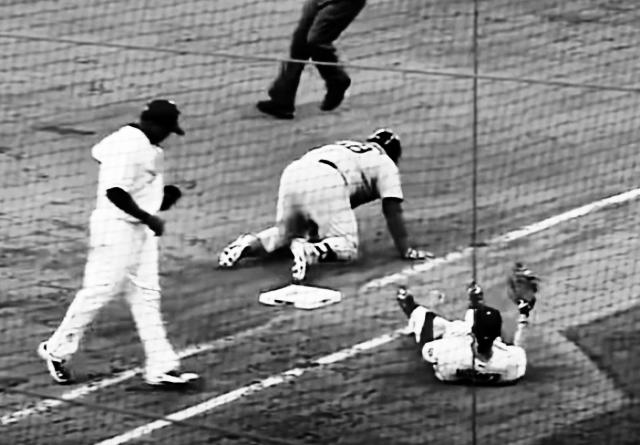jatuh: (208, 124, 440, 286), (388, 271, 540, 393)
